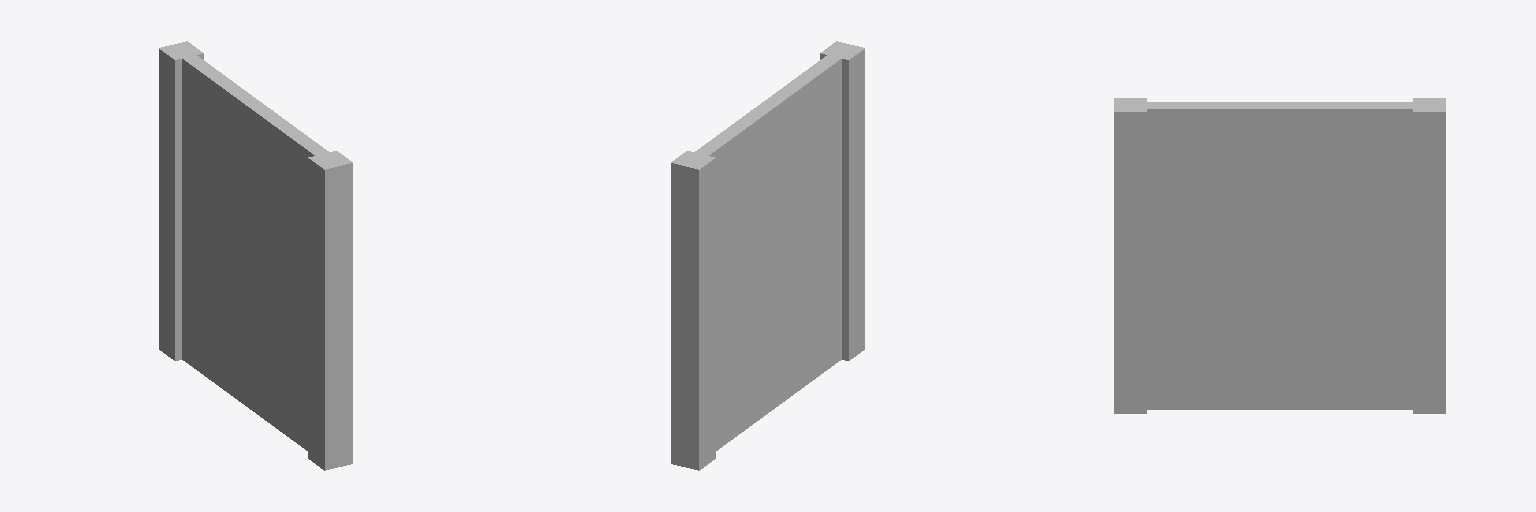
Rendered from wallWood.obj.
The picture shows the model from 3 angles: view 1: azimuth 30°, elevation 25°; view 2: azimuth 150°, elevation 25°; view 3: azimuth 270°, elevation 25°; orthographic projection.
Parts seen in each view (by area): view 1: wallWood; view 2: wallWood; view 3: wallWood.
Boxes of the visible parts, x1=… form: wallWood: x1=159, y1=41, x2=352, y2=470; wallWood: x1=671, y1=41, x2=864, y2=470; wallWood: x1=1114, y1=98, x2=1445, y2=413.
Size of the model in its own units: 0.1 by 1 by 1.